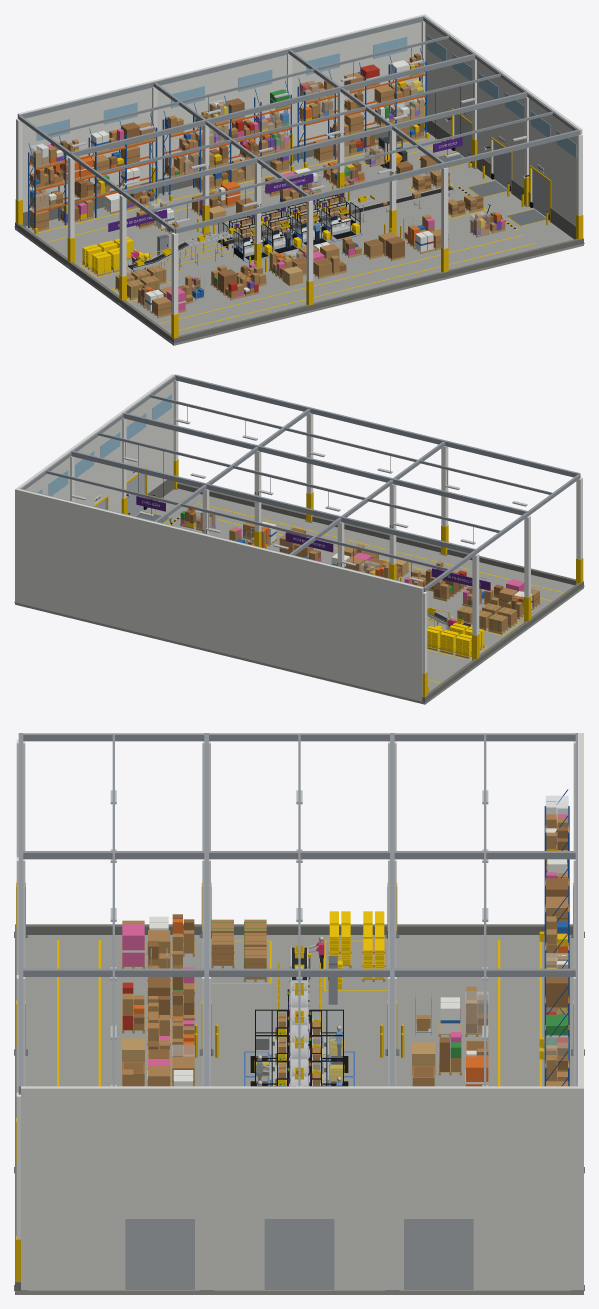
Rendered from layout-maquete.glb.
The picture shows the model from 3 angles, top to bottom: view 1: azimuth 30°, elevation 25°; view 2: azimuth 150°, elevation 25°; view 3: azimuth 270°, elevation 25°; orthographic projection. The views are drawn at different scales.
Parts seen in each view (by area): view 1: Layout_Maquete_Export; view 2: Layout_Maquete_Export; view 3: Layout_Maquete_Export.
Part boxes in pixels (x1,y1,x2,y2): Layout_Maquete_Export: (14,14,584,345); Layout_Maquete_Export: (14,374,584,704); Layout_Maquete_Export: (14,733,584,1294).
Bounding box in the file's own units: 2.03 × 0.5444 × 1.37.
2 materials, 1 textured.
